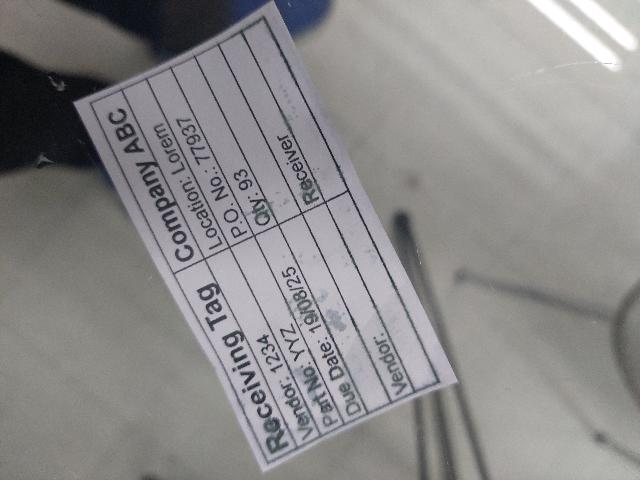PO no: (145, 69, 254, 250)
part no: (230, 236, 347, 437)
qty: (170, 60, 279, 238)
tags: (71, 2, 460, 474)
